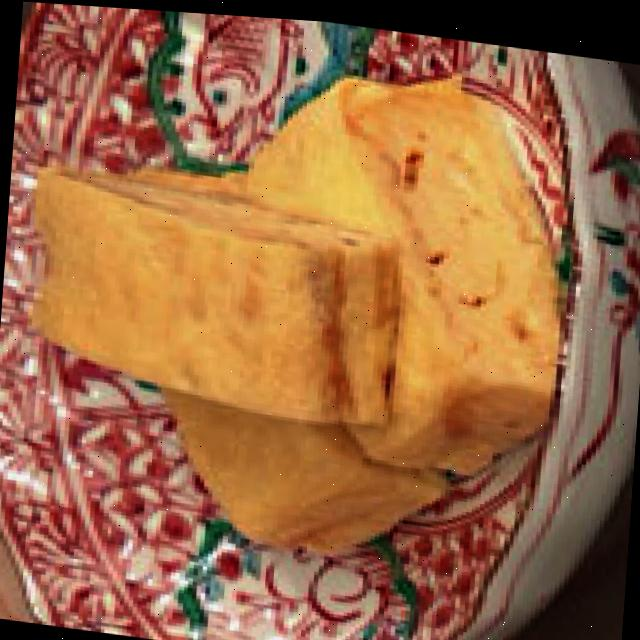鸡蛋料理: (0, 18, 583, 581)
